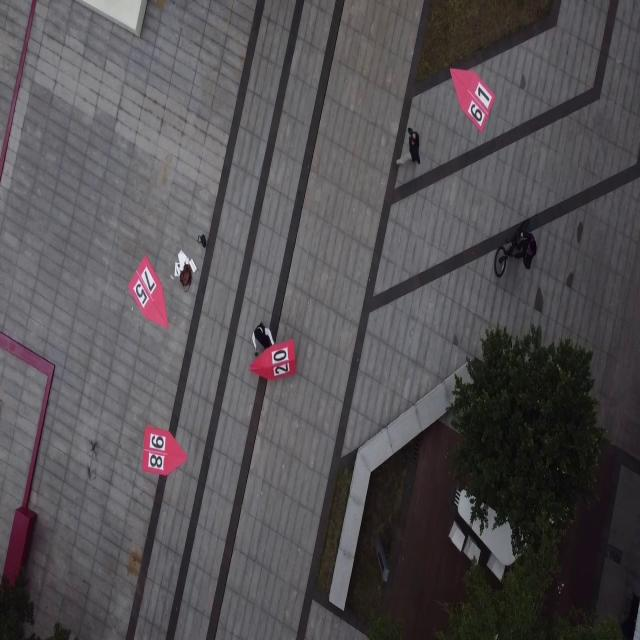-sign-: (128, 256, 169, 330), (450, 67, 494, 133), (142, 426, 188, 477), (249, 340, 296, 381)
